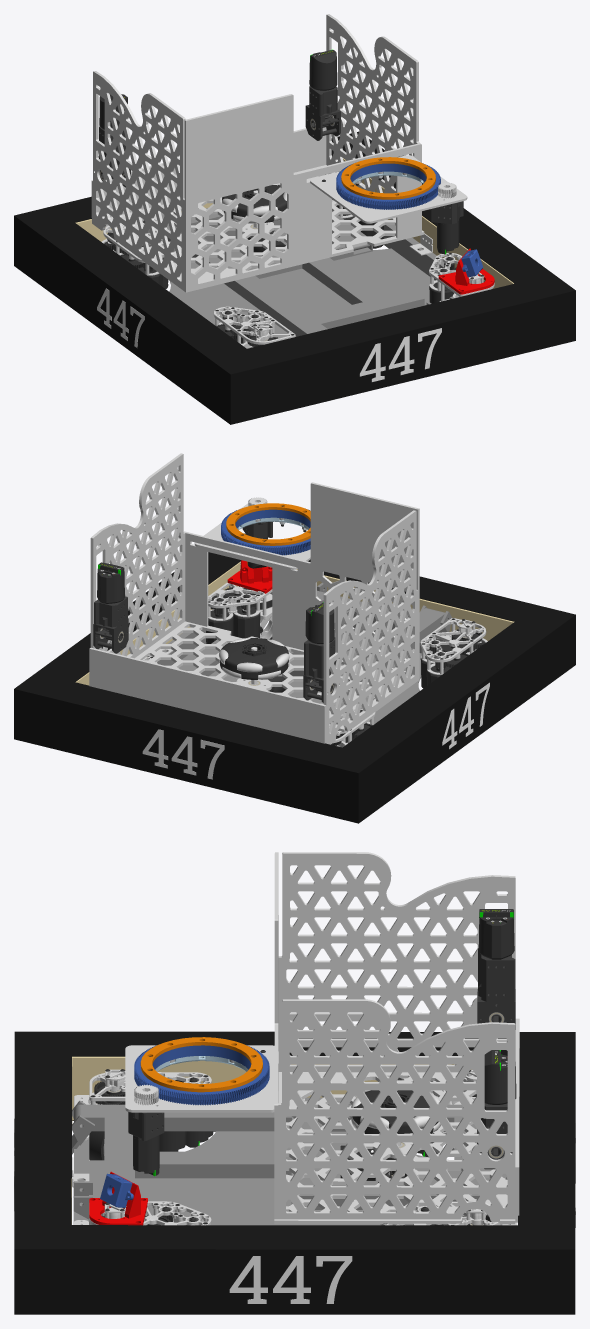
3 views of the same model, one above another, from view 1: azimuth 30°, elevation 25°; view 2: azimuth 150°, elevation 25°; view 3: azimuth 270°, elevation 25° (orthographic). The views are drawn at different scales.
Visible parts, largest first — view 1: Part 1 (×13), Helical 1.27M 175T, Turret Baseplate, Spacer, MK4n Top Plate B, MAXPlanetary (Block) (×2), 6" DuraOmni Wheel (1.125" Bearing Bore), Kraken X60 Brushless Motor, MAX 90 Degree Gearbox (REV), Kraken X44 Brushless Motor, MK4n Top Plate A; view 2: Part 1 (×11), Kraken X60 Brushless Motor (×3), 6" DuraOmni Wheel (1.125" Bearing Bore), MAXPlanetary (Block) (×2), Helical 1.27M 175T, MAX 90 Degree Gearbox (REV) (×2), Spacer, MK4n Top Plate B, MK4n Top Plate A, Turret Baseplate; view 3: Part 1 (×14), Helical 1.27M 175T, Kraken X60 Brushless Motor (×2), Turret Baseplate, MAXPlanetary (Block) (×2), Spacer, 6" DuraOmni Wheel (1.125" Bearing Bore), MK4n Top Plate A, MK4n Top Plate B, Kraken X44 Brushless Motor, MAX 90 Degree Gearbox (REV), FusionComponent (+1 smaller).
Part boxes in pixels (x1=…): Part 1 (×13): x1=14, y1=14, x2=575, y2=424; Helical 1.27M 175T: x1=336, y1=162, x2=440, y2=209; Turret Baseplate: x1=310, y1=155, x2=467, y2=223; Spacer: x1=341, y1=157, x2=435, y2=199; MK4n Top Plate B: x1=213, y1=306, x2=295, y2=344; MAXPlanetary (Block) (×2): x1=309, y1=86, x2=463, y2=224; 6" DuraOmni Wheel (1.125" Bearing Bore): x1=222, y1=184, x2=286, y2=223; Kraken X60 Brushless Motor: x1=309, y1=49, x2=337, y2=90; MAX 90 Degree Gearbox (REV): x1=305, y1=105, x2=340, y2=140; Kraken X44 Brushless Motor: x1=437, y1=219, x2=459, y2=254; MK4n Top Plate A: x1=429, y1=253, x2=494, y2=296; Part 1 (×11): x1=14, y1=453, x2=575, y2=823; Kraken X60 Brushless Motor (×3): x1=97, y1=562, x2=334, y2=643; 6" DuraOmni Wheel (1.125" Bearing Bore): x1=219, y1=638, x2=289, y2=679; MAXPlanetary (Block) (×2): x1=94, y1=596, x2=336, y2=678; Helical 1.27M 175T: x1=221, y1=509, x2=310, y2=555; MAX 90 Degree Gearbox (REV) (×2): x1=93, y1=618, x2=334, y2=702; Spacer: x1=226, y1=503, x2=310, y2=545; MK4n Top Plate B: x1=420, y1=618, x2=486, y2=662; MK4n Top Plate A: x1=208, y1=582, x2=272, y2=608; Turret Baseplate: x1=194, y1=503, x2=310, y2=569; Part 1 (×14): x1=14, y1=852, x2=575, y2=1314; Helical 1.27M 175T: x1=134, y1=1044, x2=269, y2=1105; Kraken X60 Brushless Motor (×2): x1=478, y1=909, x2=516, y2=1104; Turret Baseplate: x1=125, y1=1045, x2=274, y2=1112; MAXPlanetary (Block) (×2): x1=128, y1=948, x2=515, y2=1141; Spacer: x1=140, y1=1037, x2=262, y2=1092; 6" DuraOmni Wheel (1.125" Bearing Bore): x1=351, y1=1090, x2=440, y2=1133; MK4n Top Plate A: x1=89, y1=1201, x2=211, y2=1225; MK4n Top Plate B: x1=89, y1=1072, x2=211, y2=1101; Kraken X44 Brushless Motor: x1=133, y1=1135, x2=159, y2=1176; MAX 90 Degree Gearbox (REV): x1=477, y1=989, x2=515, y2=1029; FusionComponent: x1=100, y1=1173, x2=133, y2=1207.
Size of the model in its own units: 0.857 by 0.5586 by 0.9332.
